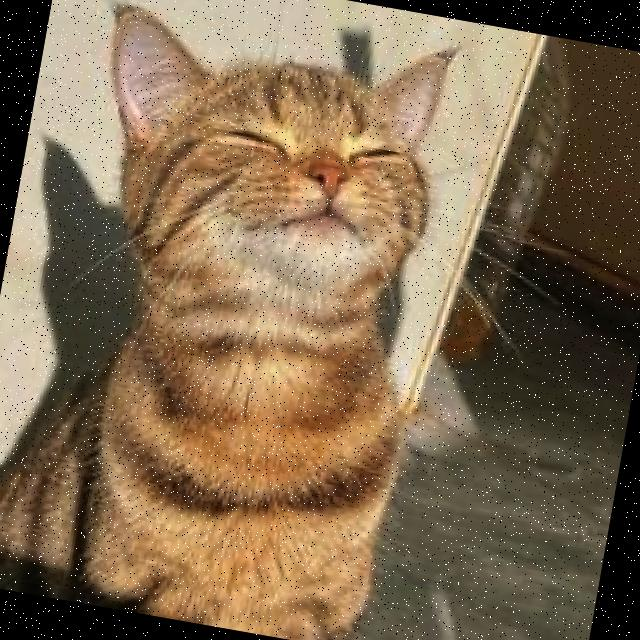Happy: (150, 74, 452, 316)
